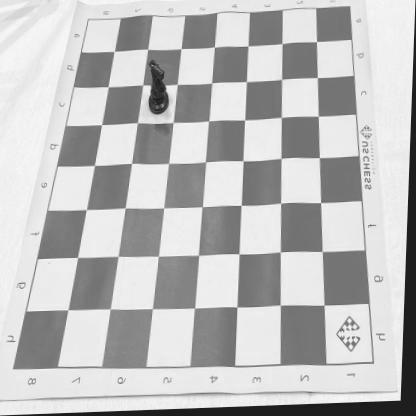black-knight: (148, 60, 172, 117)
